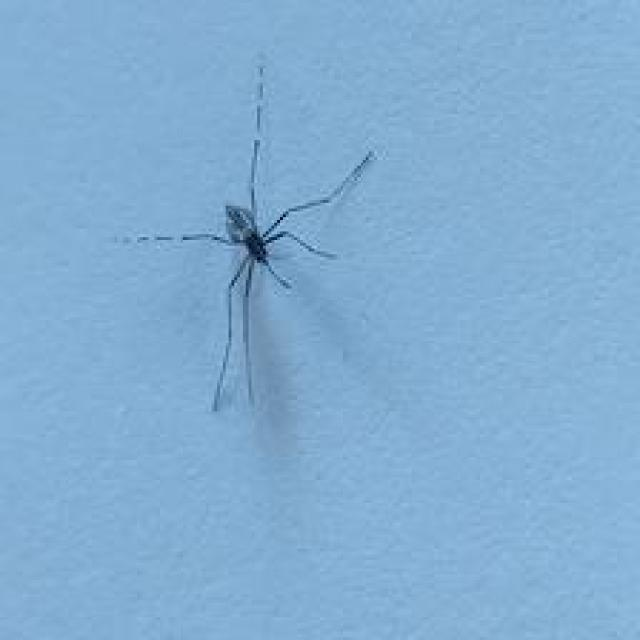Aedes albopictus: (117, 61, 377, 413)
